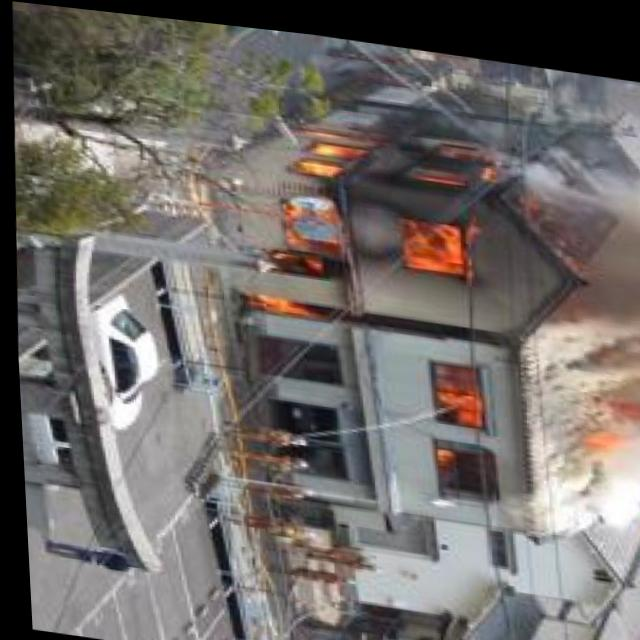Fire: (205, 71, 523, 349), (416, 345, 491, 475), (549, 370, 640, 466)
